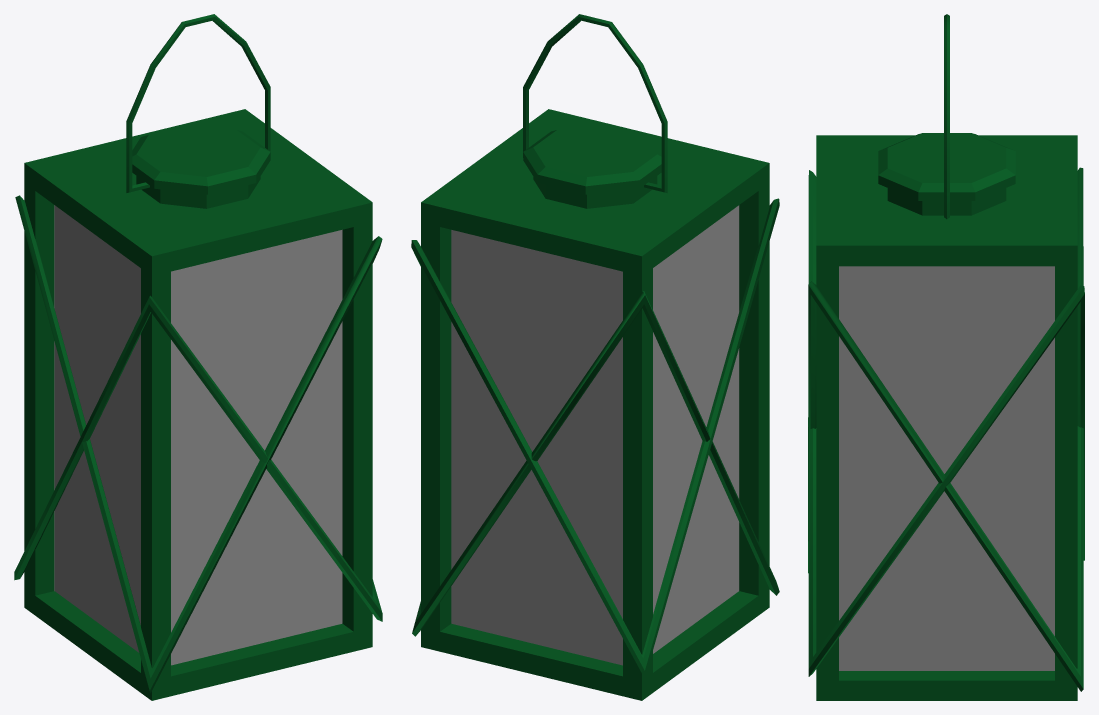
Rendered from Lanterne.FBX.
3 renders of one model, left to right at view 1: azimuth 30°, elevation 25°; view 2: azimuth 150°, elevation 25°; view 3: azimuth 270°, elevation 25°, orthographic. The views are drawn at different scales.
Parts seen in each view (by area): view 1: Lanterne, Lanterne_verre; view 2: Lanterne, Lanterne_verre; view 3: Lanterne_verre, Lanterne.
Part boxes in pixels (box(x1,y1,x2,y2)): Lanterne: box(14, 14, 382, 700); Lanterne_verre: box(54, 205, 342, 665); Lanterne: box(411, 14, 779, 700); Lanterne_verre: box(451, 205, 739, 665); Lanterne_verre: box(839, 266, 1054, 670); Lanterne: box(808, 14, 1084, 700).
Bounding box in the file's own units: 13.75 × 34.27 × 13.78.
2 materials, 1 textured.
